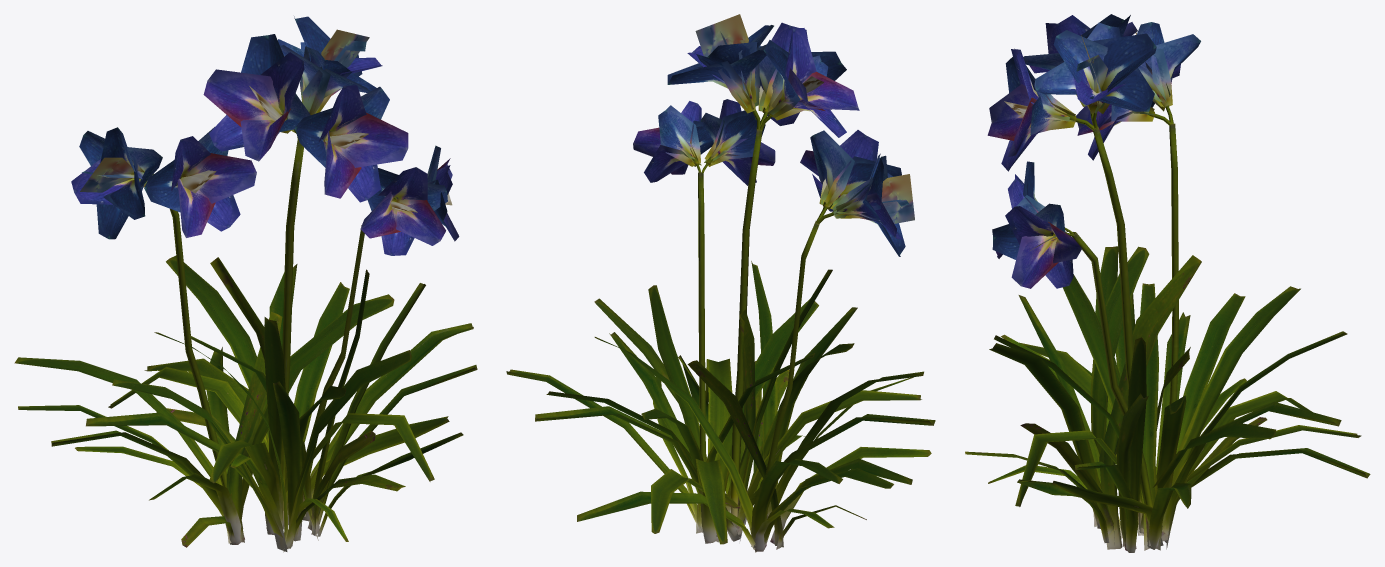
Rendered from Amaryllis_bush_long_lightblue.glb.
The picture shows the model from 3 angles, left to right: view 1: azimuth 30°, elevation 25°; view 2: azimuth 150°, elevation 25°; view 3: azimuth 270°, elevation 25°; orthographic projection. The views are drawn at different scales.
Parts seen in each view (by area): view 1: bush; view 2: bush; view 3: bush.
Part boxes in pixels (bbox=[...]): bush: bbox=[14, 16, 477, 552]; bush: bbox=[506, 14, 935, 552]; bush: bbox=[965, 14, 1370, 552].
Bounding box in the file's own units: 2.94 × 3.42 × 2.41.
Materials: 1 (1 with a texture image).
